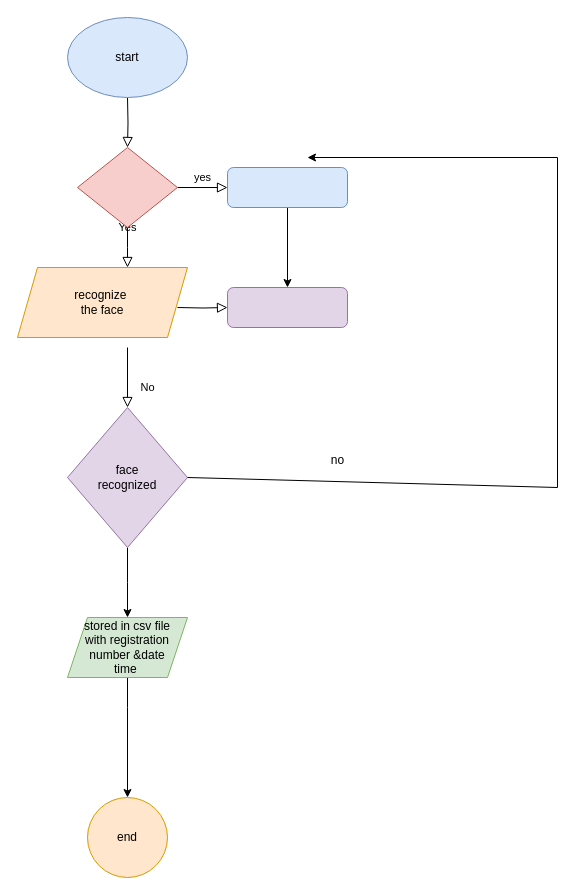
Some shapes in this 583 by 895 pixel diagram are drawn without their labels. Here are the shapes that lost their labels. From the top down, the box of each, then its label:
(76, 146, 178, 228): new user? run create-ds
(226, 166, 348, 208): give your photograph
(226, 286, 348, 328): store the face date in folder on your name
